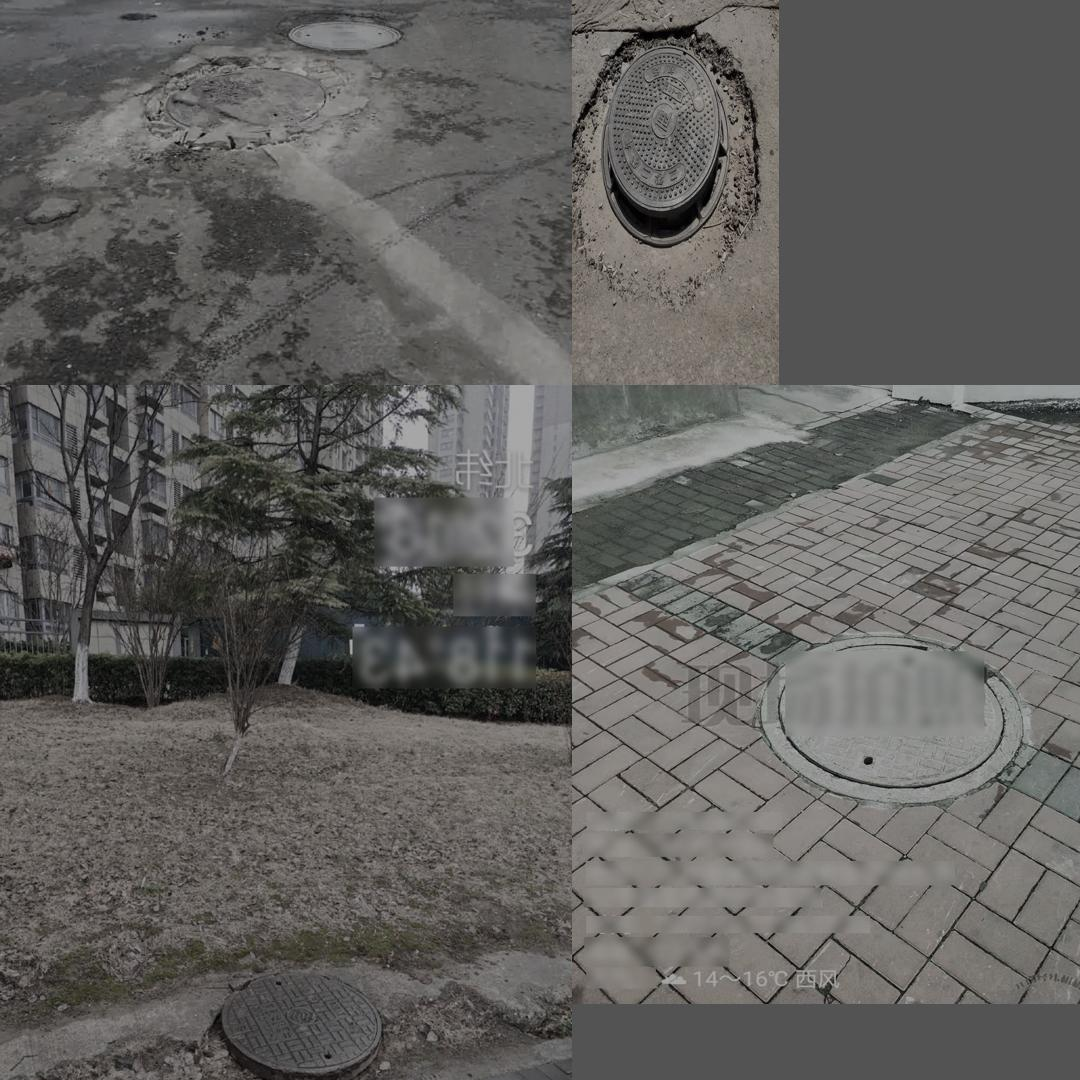circle: (575, 29, 758, 304), (755, 636, 1027, 809), (84, 46, 363, 197), (213, 967, 385, 1080)
